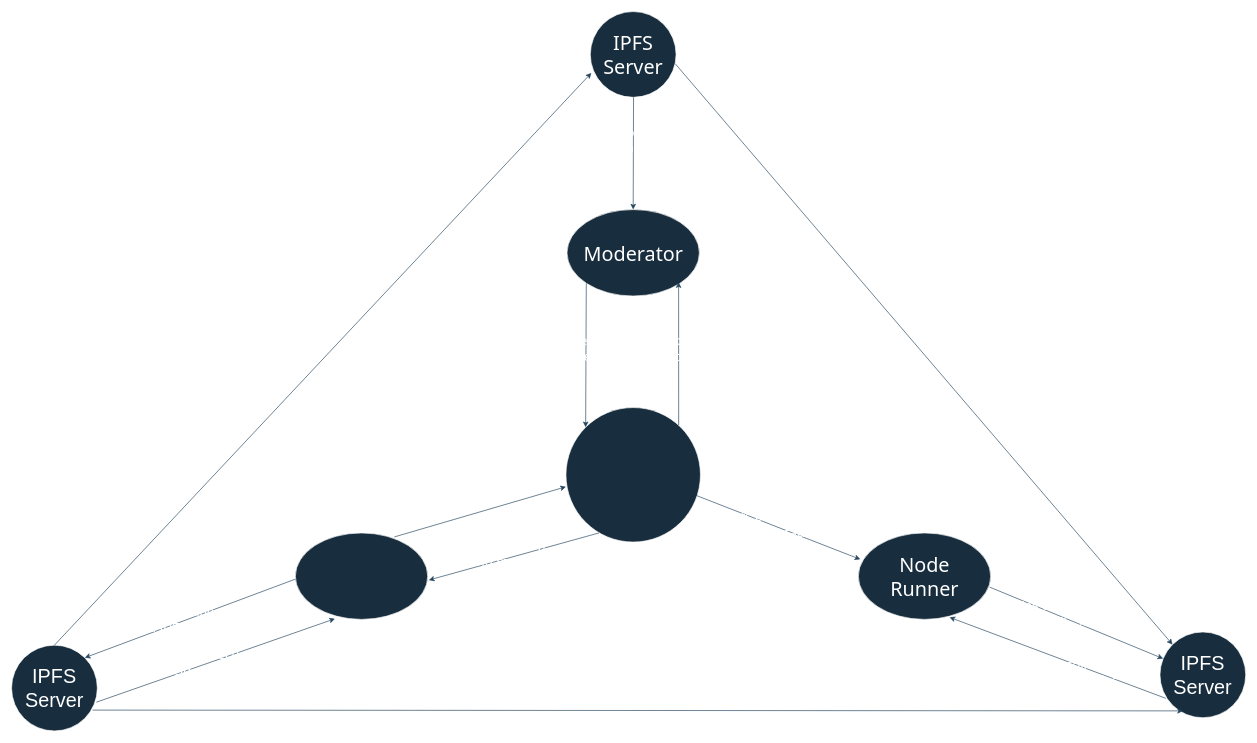
Some shapes in this 1257 by 743 pixel diagram are drawn without their labels. The centre of each missing label's shape, as x and y in pixels:
Content Uploader: the point at 361,575
Massa Blockchain: the point at 632,474
